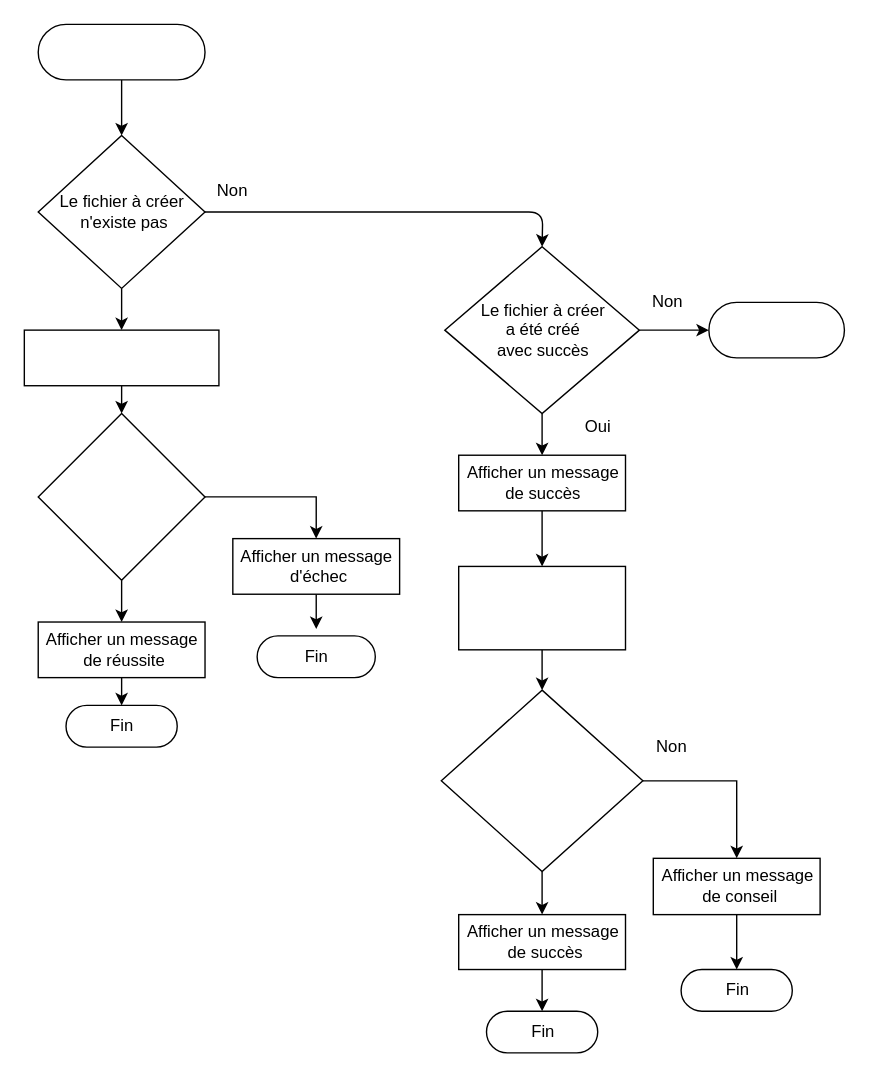
Some shapes in this 869 by 1077 pixel diagram are drawn without their labels. The box of each missing label's shape, as (x1, y1, x2, y2) in pixels:
Changement des droits de lecture et d'écriture: (457, 565, 626, 650)
Début fonction: (37, 23, 205, 80)
Fin erreur fatale: (708, 301, 844, 358)
La redirection a fonctionné: (37, 412, 205, 580)
Le changement des droits a bien eu lieu: (440, 689, 643, 872)
Redirection du contenu vers le périphérique nul: (23, 329, 219, 386)
